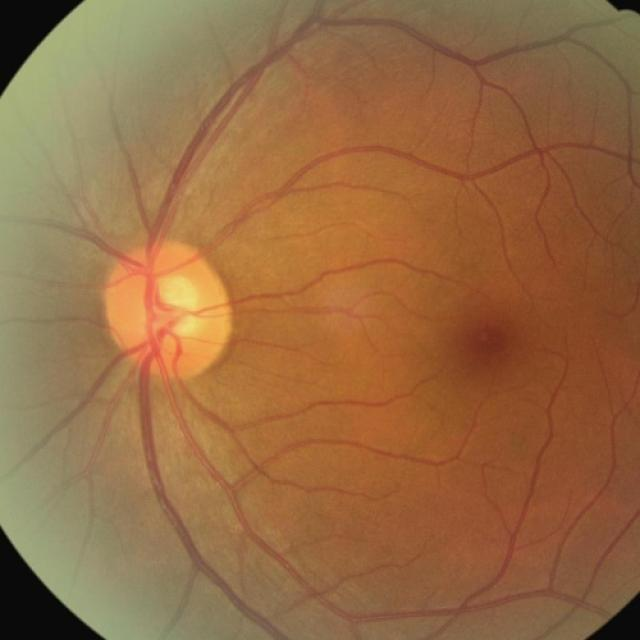OC: (154, 275, 198, 336)
OD: (103, 239, 232, 378)
